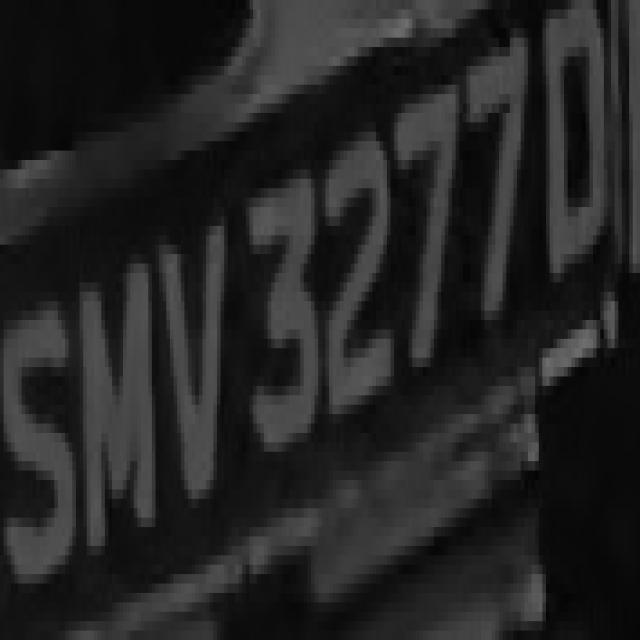2: (314, 113, 390, 423)
3: (242, 132, 318, 508)
7: (448, 47, 532, 386), (387, 75, 448, 414)
D: (546, 10, 622, 302)
M: (76, 264, 155, 574)
S: (11, 254, 72, 584)
V: (156, 178, 242, 518)
